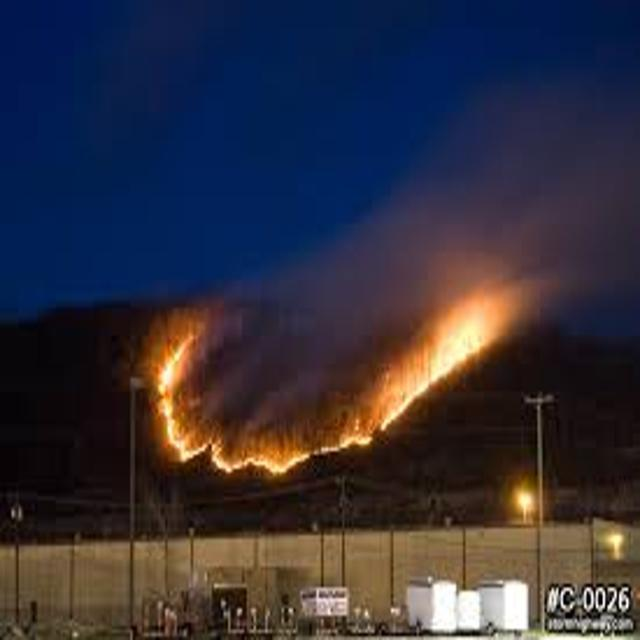Fire: (372, 280, 522, 424), (129, 302, 211, 472), (214, 428, 390, 480)
Smoke: (446, 98, 640, 279), (308, 188, 436, 326)
